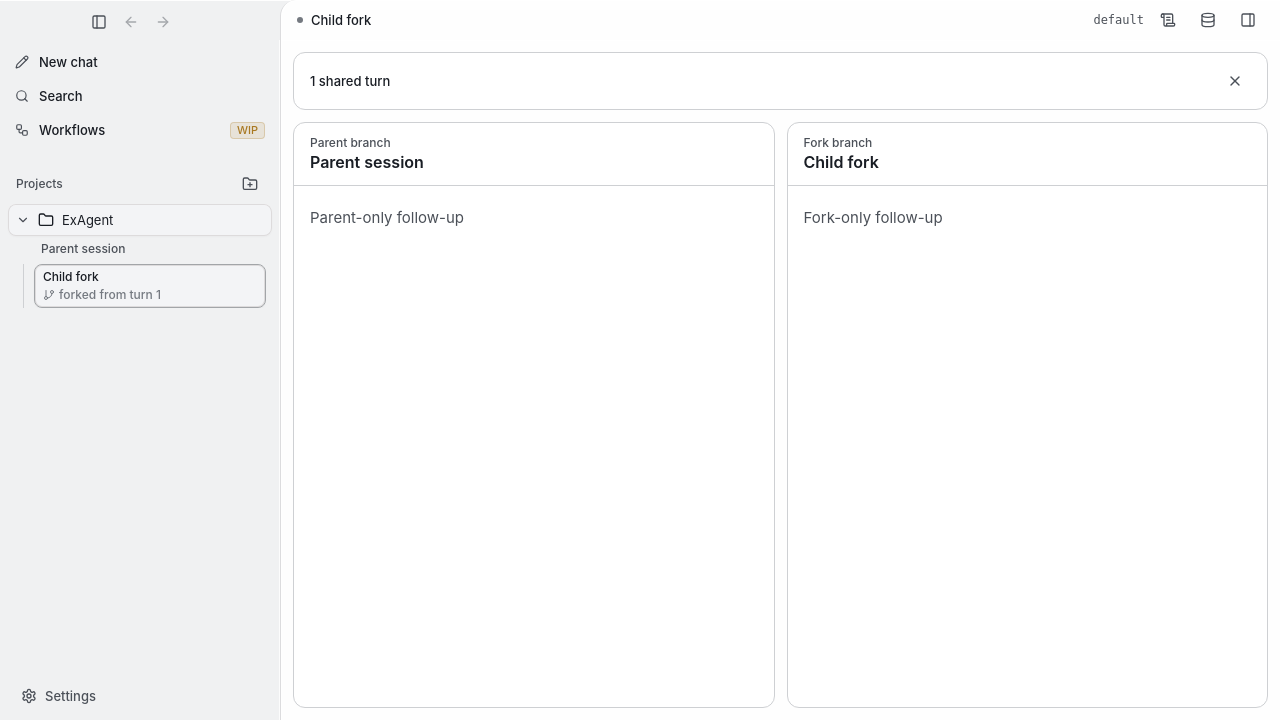
Test: AppShell › closes branch compare from the visible close control
The width and height of the screenshot is (1280, 720).
Check: the element named "Parent branch transcript" is shown, box [293,122,774,708]
Click the button named "Close branch compare" at point(1235, 81), box [1219,65,1251,97]
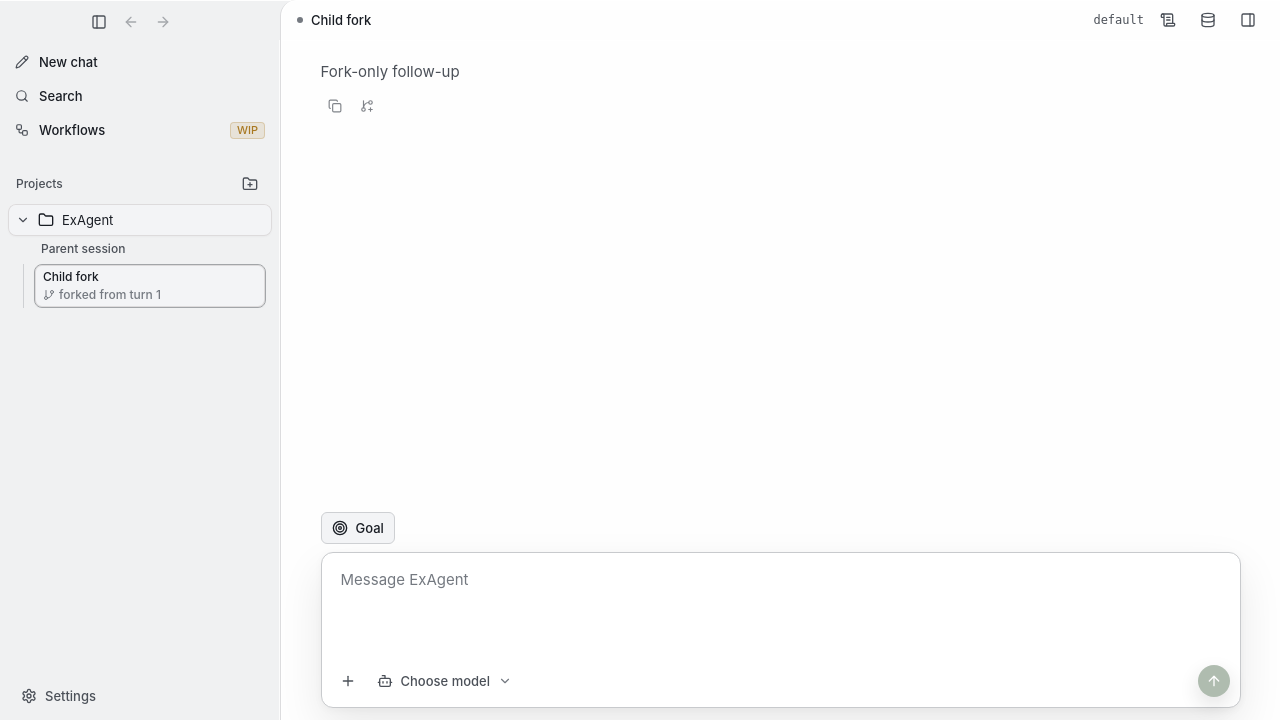
Check: the text box labelled "Message ExAgent" is shown, box [332,563,1230,651]
